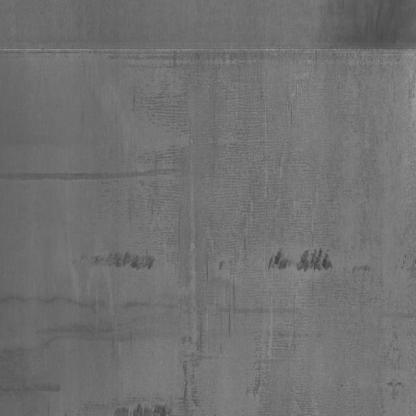rolled_pit: (79, 242, 157, 281), (268, 245, 336, 273), (104, 391, 177, 416)
welding_line: (0, 32, 416, 66)
